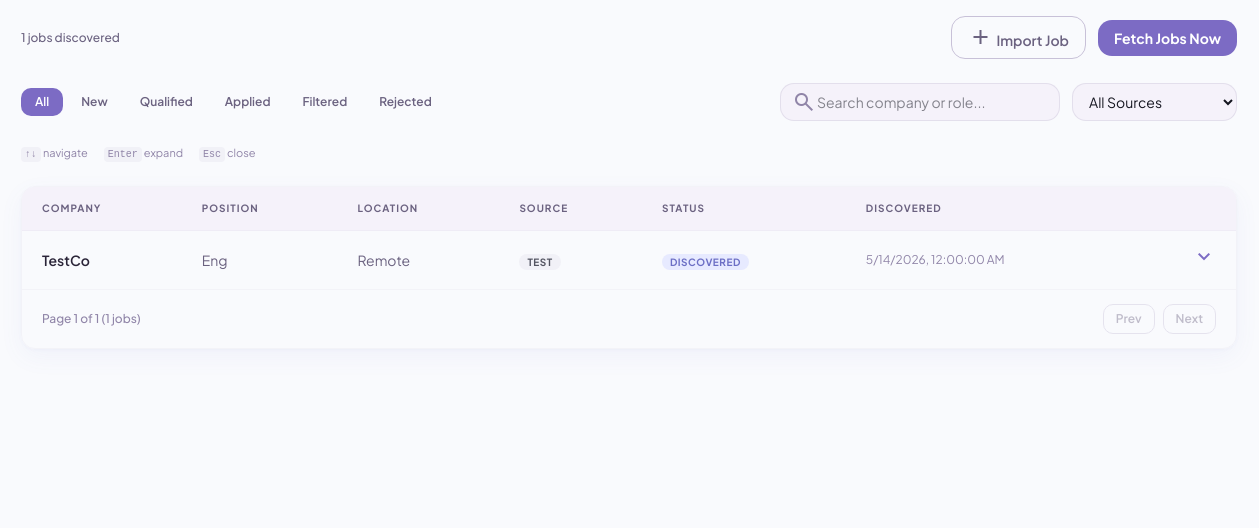
Test: TailoredResumeCell NO_IMPROVEMENT verdict copy › renders the reviewer-chose-base copy when review_reason is null
This screenshot has width=1259, height=528.
Step 1. Click the text "TestCo" → (66, 260), box [22,230,182,289]
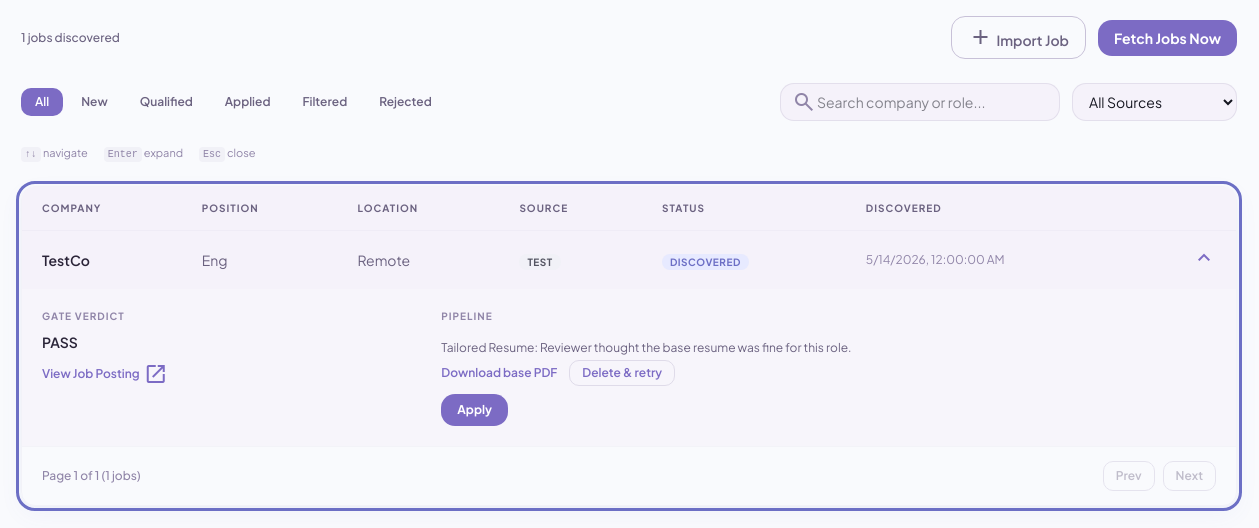
Expected: the text "Reviewer thought the base resume was fine for this role." is shown, [540,340,851,355]
